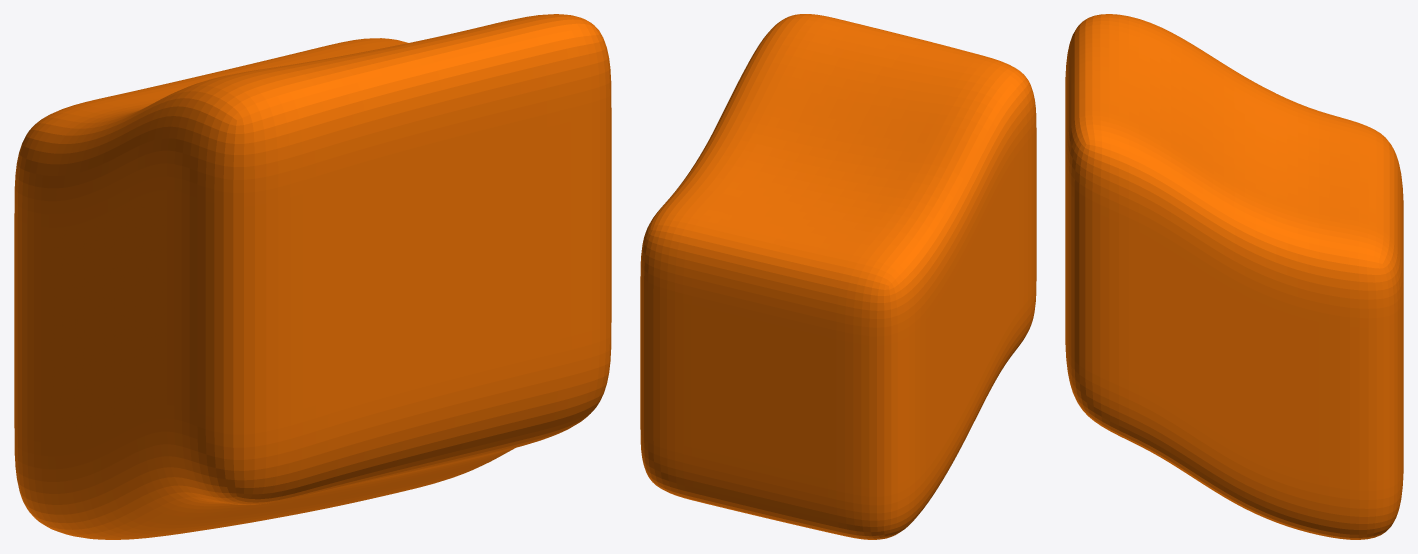
The picture shows the model from 3 angles, left to right: view 1: azimuth 30°, elevation 25°; view 2: azimuth 150°, elevation 25°; view 3: azimuth 270°, elevation 25°; orthographic projection. The views are drawn at different scales.
Visible parts, largest first — view 1: smooth_1_base.011; view 2: smooth_1_base.011; view 3: smooth_1_base.011.
Boxes of the visible parts, <box> form: smooth_1_base.011: <box>14,14,611,539</box>; smooth_1_base.011: <box>640,14,1036,539</box>; smooth_1_base.011: <box>1065,14,1403,539</box>.
Bounding box in the file's own units: 60 × 81.43 × 60.
